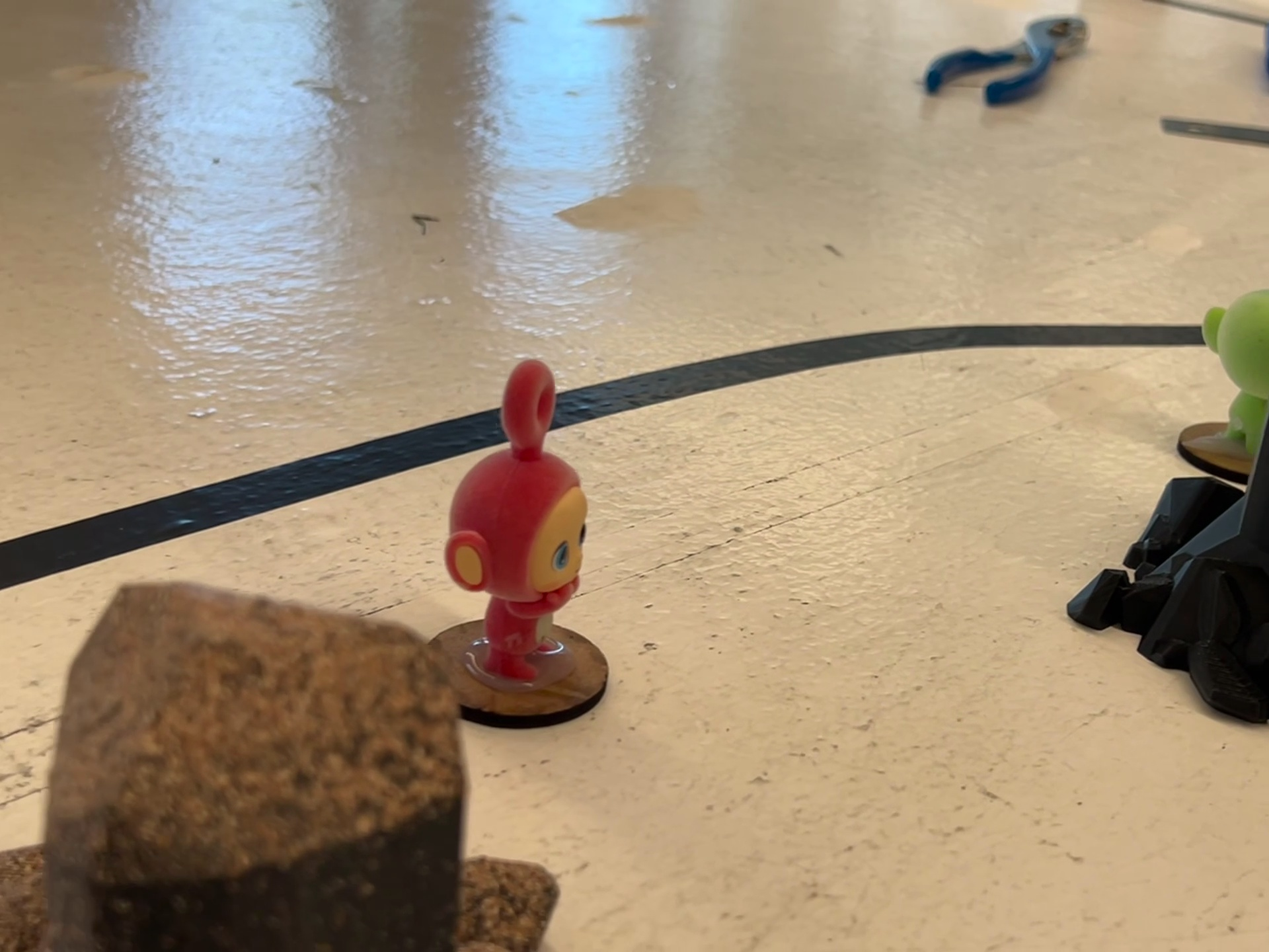teletubby: (445, 360, 588, 685), (1202, 290, 1268, 459)
